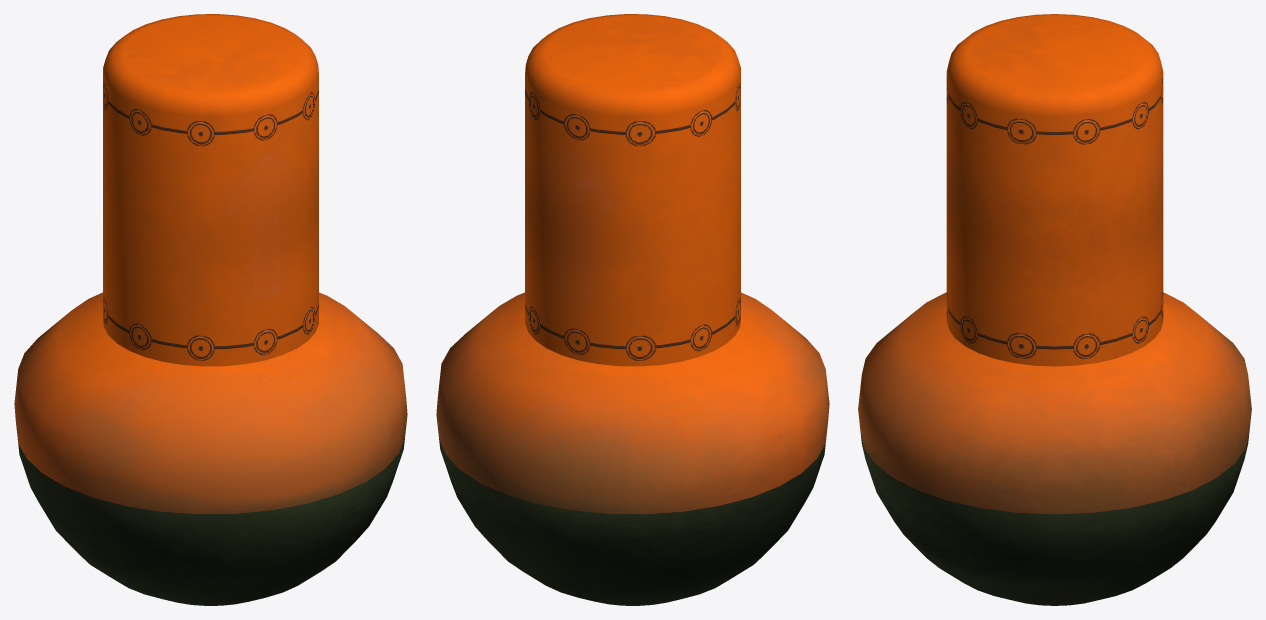
The model's file is WaterBuoy.fbx.
3 views of the same model, side by side, from view 1: azimuth 30°, elevation 25°; view 2: azimuth 150°, elevation 25°; view 3: azimuth 270°, elevation 25° (orthographic).
Parts seen in each view (by area): view 1: Buoy; view 2: Buoy; view 3: Buoy.
Boxes of the visible parts, box(x1,y1,x2,y2) form: Buoy: box(14, 14, 407, 605); Buoy: box(436, 14, 829, 605); Buoy: box(858, 14, 1251, 605).
Bounding box in the file's own units: 200 × 300 × 200.
